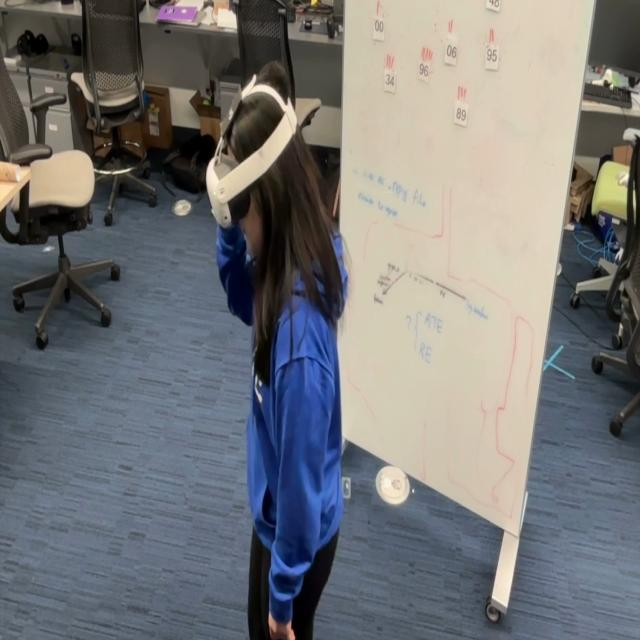Headset: (204, 76, 298, 230)
